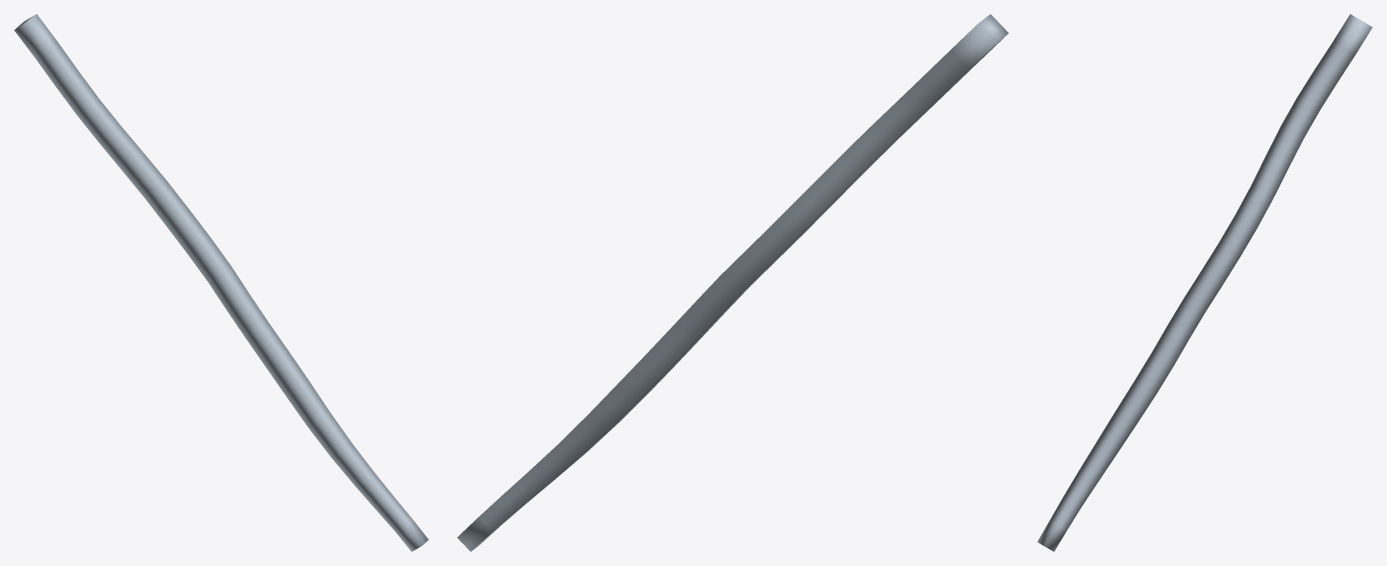
The model's file is stylohyoid-ligament-r.glb.
3 views of the same model, side by side, from view 1: azimuth 30°, elevation 25°; view 2: azimuth 210°, elevation 25°; view 3: azimuth 270°, elevation 25° (orthographic). The views are drawn at different scales.
Parts seen in each view (by area): view 1: Stylohyoid ligament.r; view 2: Stylohyoid ligament.r; view 3: Stylohyoid ligament.r.
Boxes of the visible parts, x1=… form: Stylohyoid ligament.r: x1=14, y1=14, x2=428, y2=551; Stylohyoid ligament.r: x1=457, y1=14, x2=1008, y2=551; Stylohyoid ligament.r: x1=1037, y1=14, x2=1372, y2=551.
Bounding box in the file's own units: 0.0265 × 0.0483 × 0.0339.
